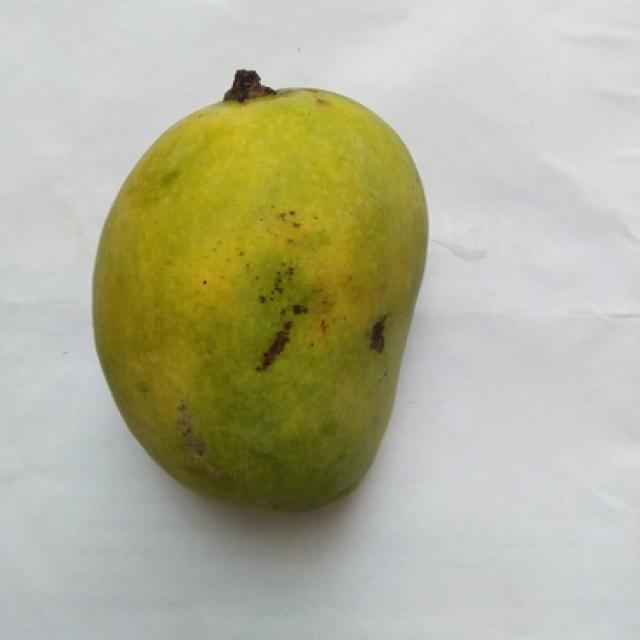Mango: (94, 90, 426, 510)
